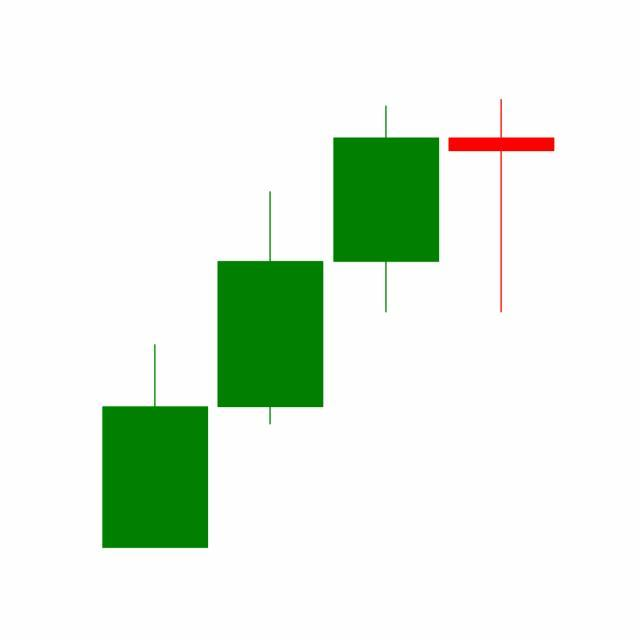Spinning Top: (444, 97, 560, 315)
